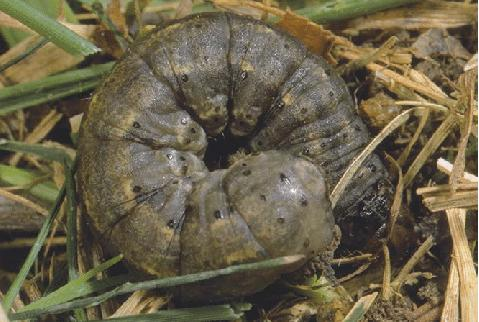caterpillars: (43, 0, 445, 322)
